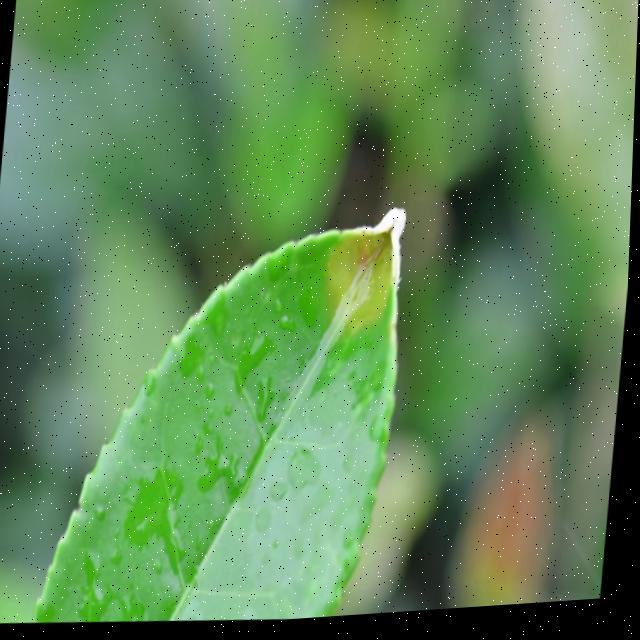Tea cake: (325, 191, 454, 354)
